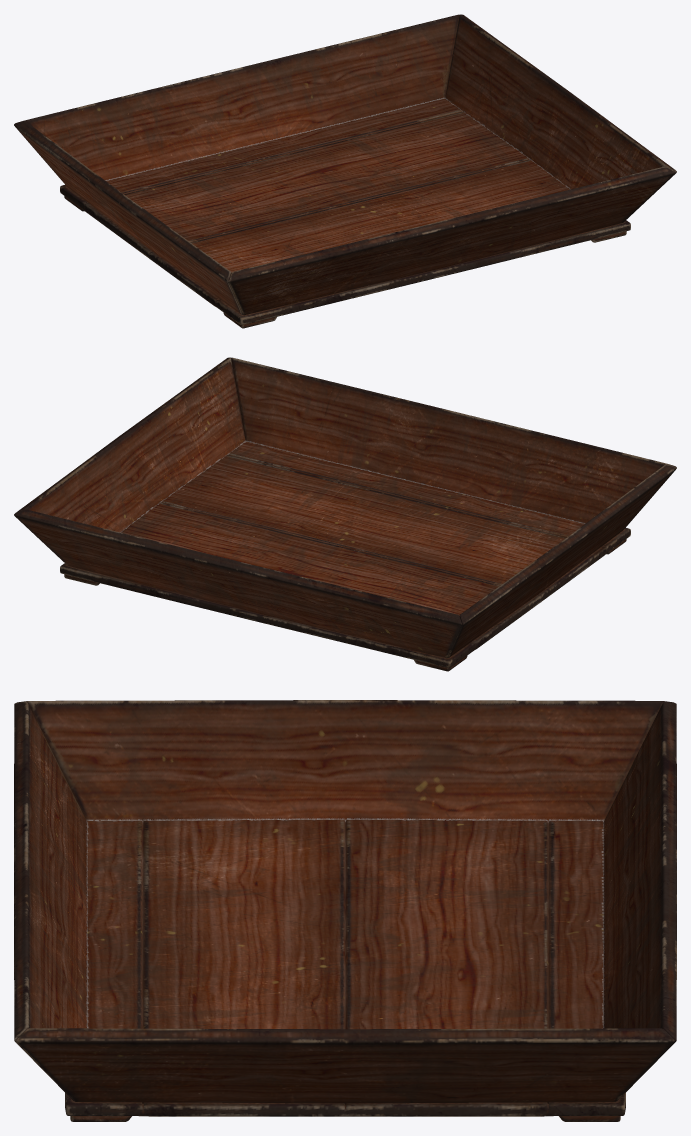
Rendered from SM_WoodenTray322.fbx.
3 views of the same model, one above another, from view 1: azimuth 30°, elevation 25°; view 2: azimuth 150°, elevation 25°; view 3: azimuth 270°, elevation 25° (orthographic). The views are drawn at different scales.
Parts seen in each view (by area): view 1: SM_WoodenTray322; view 2: SM_WoodenTray322; view 3: SM_WoodenTray322.
Boxes of the visible parts, bbox=[...] form: SM_WoodenTray322: bbox=[14, 14, 676, 328]; SM_WoodenTray322: bbox=[14, 357, 676, 671]; SM_WoodenTray322: bbox=[14, 700, 676, 1121].
Size of the model in its own units: 53.4 by 8.32 by 44.11.
Materials: 1 (1 with a texture image).
